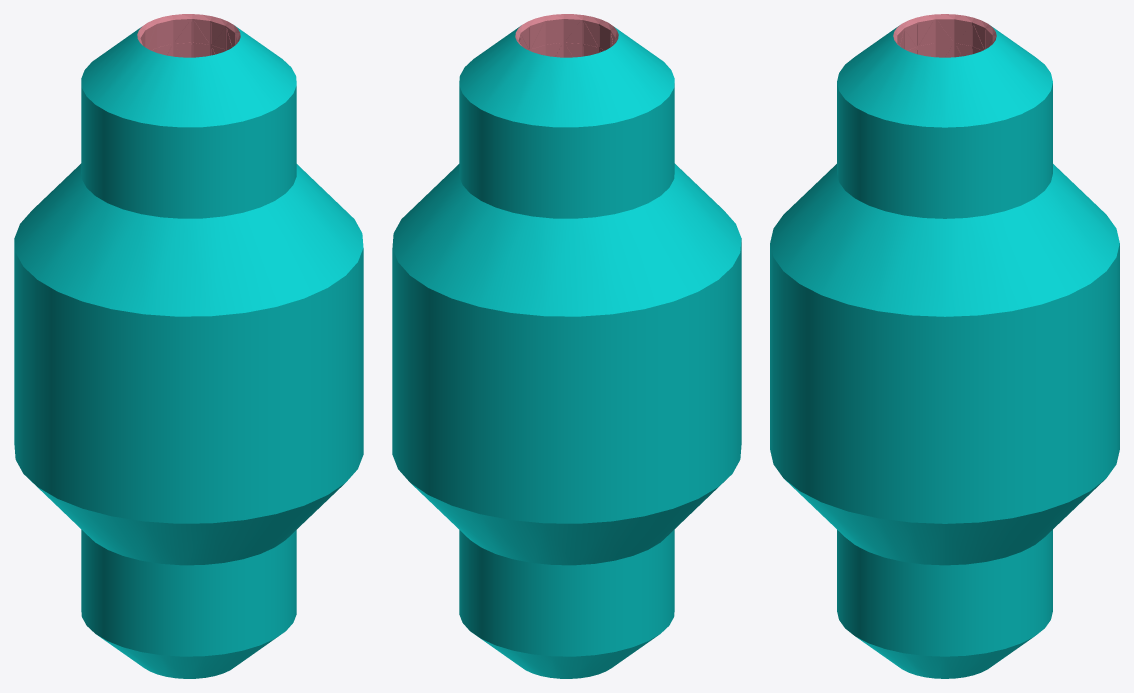
File: station_hub_A.dae
3 renders of one model, left to right at view 1: azimuth 30°, elevation 25°; view 2: azimuth 150°, elevation 25°; view 3: azimuth 270°, elevation 25°, orthographic.
Visible parts, largest first — view 1: ext_A, wall_EXIT_001; view 2: ext_A, wall_EXIT_001; view 3: ext_A, wall_EXIT_001.
Boxes of the visible parts, bbox=[...] form: ext_A: bbox=[14, 25, 363, 678]; wall_EXIT_001: bbox=[137, 14, 240, 57]; ext_A: bbox=[392, 25, 741, 678]; wall_EXIT_001: bbox=[515, 14, 618, 57]; ext_A: bbox=[770, 25, 1119, 678]; wall_EXIT_001: bbox=[893, 14, 996, 57].
Size of the model in its own units: 512 by 512 by 1004.
